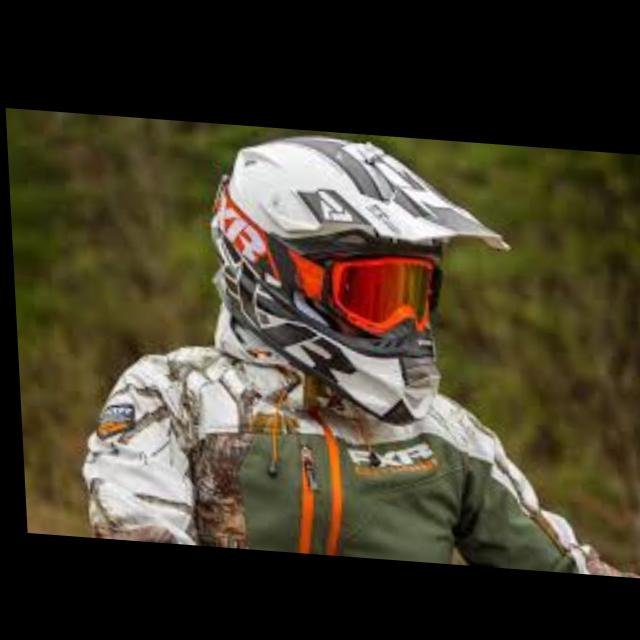motorcycle-helmets: (211, 136, 509, 429)
